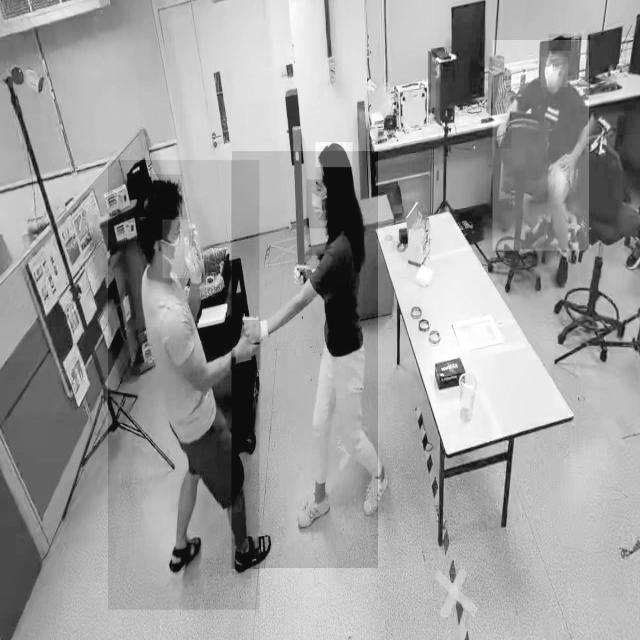face_mask: (162, 220, 190, 278), (306, 180, 332, 228), (540, 57, 568, 88)
hand_glove: (230, 320, 260, 370), (241, 301, 271, 347)
hand_noglove: (559, 146, 581, 186), (495, 114, 511, 149)
head_nohelmet: (133, 174, 183, 218), (315, 142, 353, 168), (548, 34, 571, 52)
person: (108, 160, 260, 611), (232, 151, 378, 569), (492, 40, 589, 252)
shoes: (295, 484, 335, 537), (360, 462, 386, 519), (518, 218, 548, 256), (553, 247, 573, 292)
